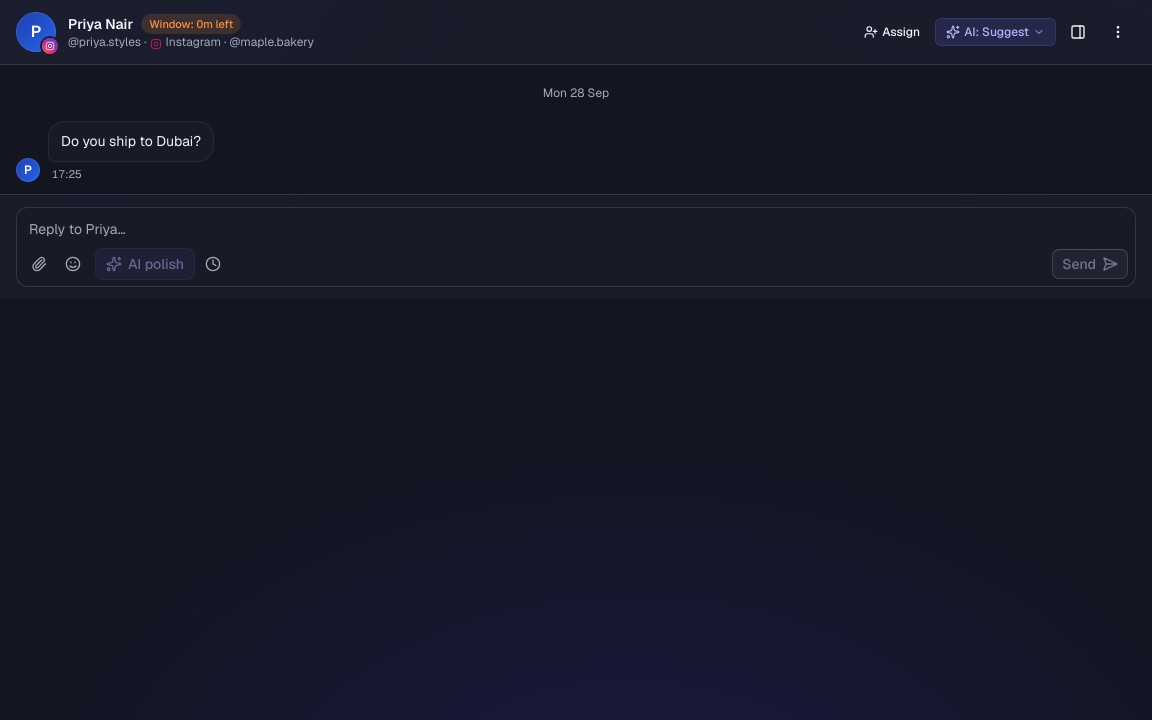
Test: ThreadView: optimistic send (TR-FE-05) › posts with client_id as the Idempotency-Key; a network drop fails with Retry, which reuses the key
Check: the text "Do you ship to Dubai?" is shown, box 61,130 -> 201,153
Type "Yes, 5–7 days" into the text box labelled "Reply to Priya…" at [576, 228], box 17,208 -> 1135,248
Then press Enter
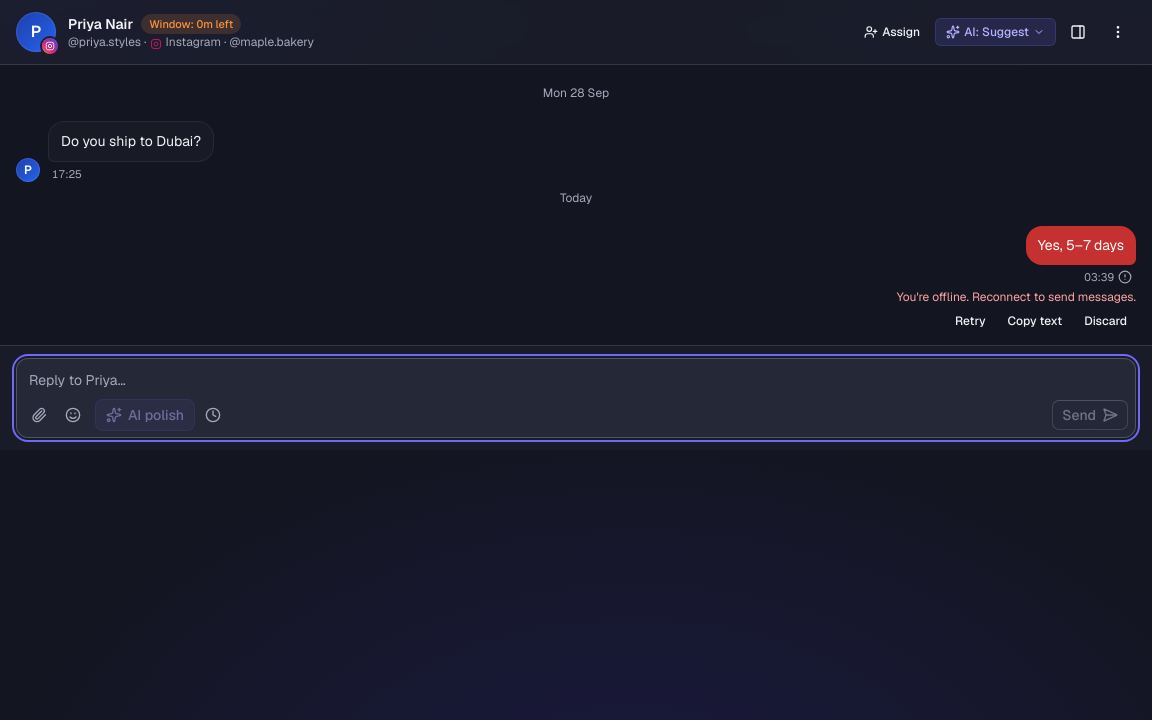
Check: the message shows "You're offline. Reconnect to send messages.", box 897,288 -> 1136,304
Click the button "Retry" at [970, 320], box 946,308 -> 995,332
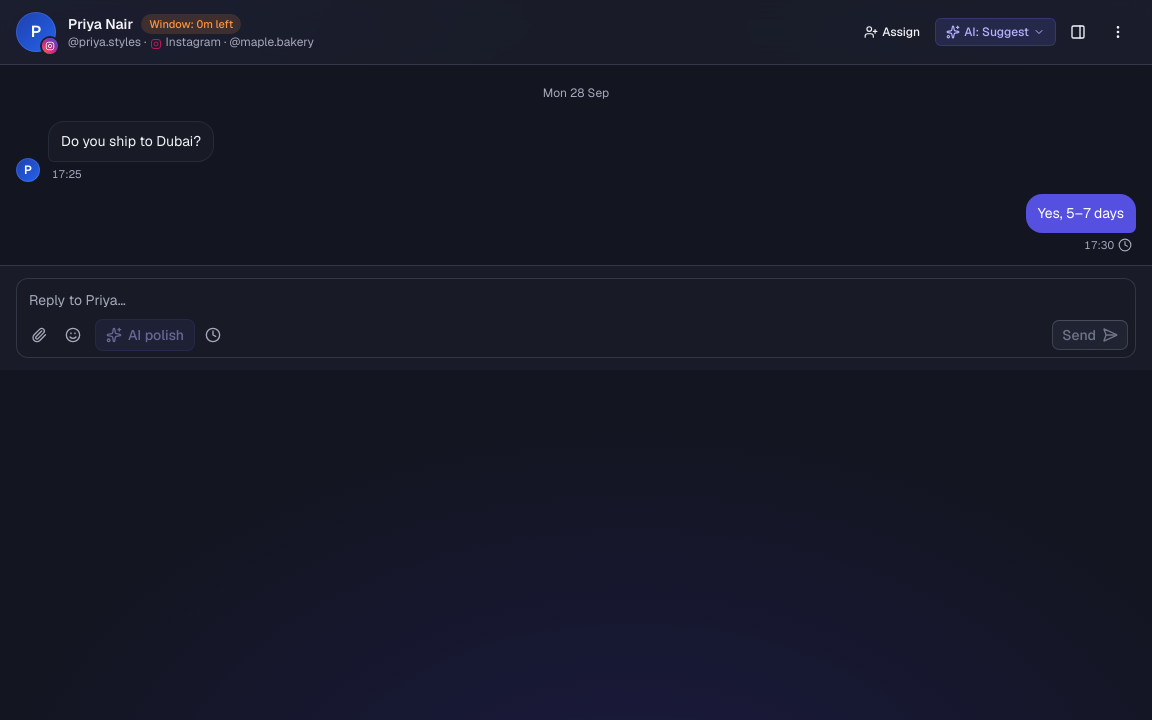
Check: the text "Yes, 5–7 days" is shown once, box 1038,202 -> 1124,225
Check: the message "You're offline. Reconnect to send messages. Retry Copy text Discard" is gone
